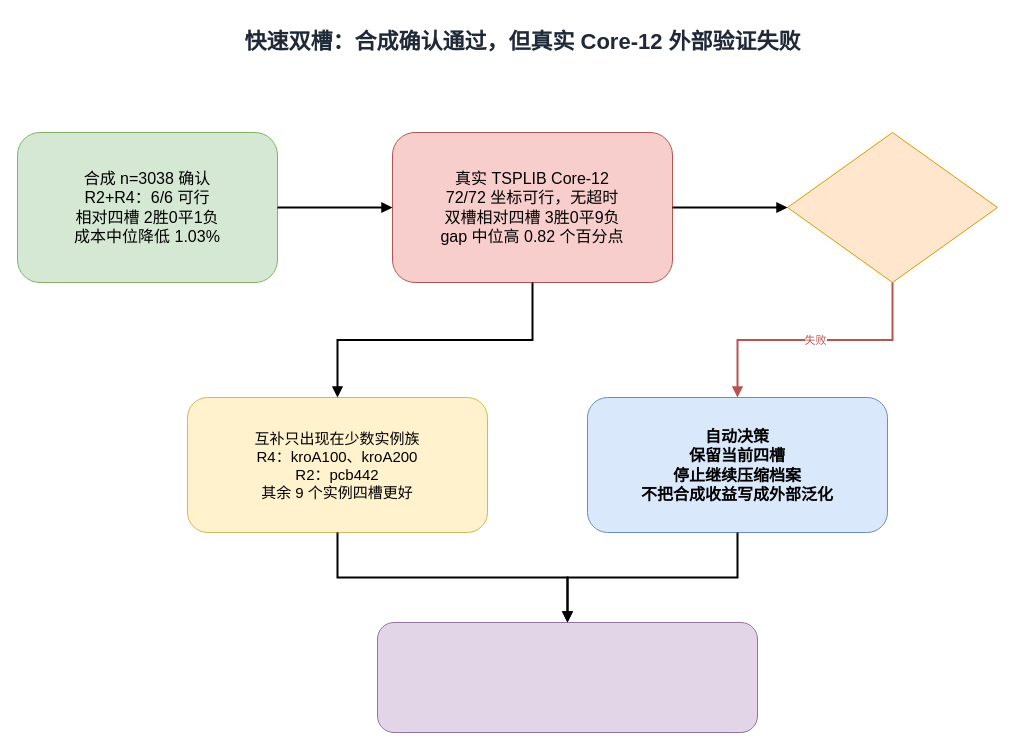
Image size: 1015x750. Some labels were removed from this diagram. The box of each missing label's shape, as (x1, y1, x2, y2) in pixels:
下一步：离线解释迁移差异 比较合成与真实实例中的代码排名变化 判断差异来自规模，还是实例结构: (376, 622, 758, 732)
冻结门槛 至少 7/12 更好 中位改善至少 0.1% 结果：未通过: (786, 132, 998, 282)
